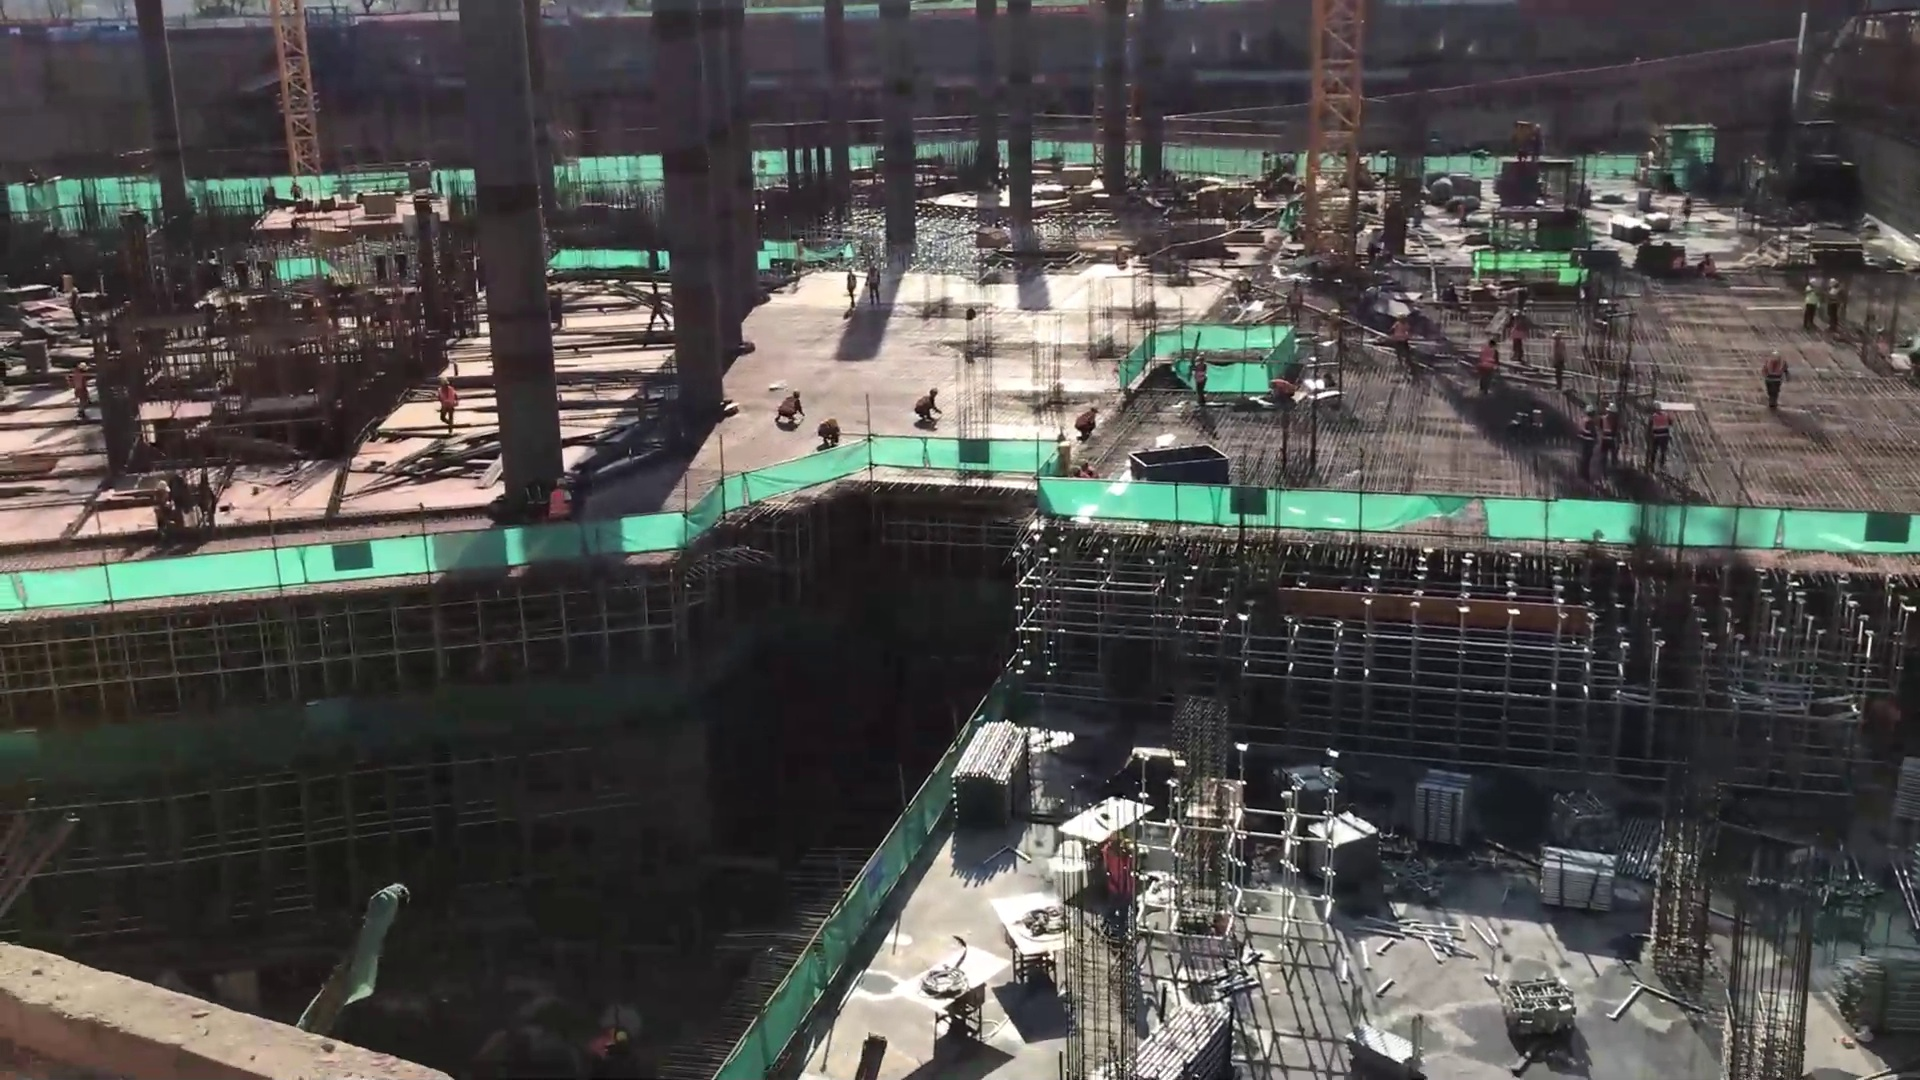person: (1101, 832, 1137, 925), (1760, 350, 1788, 414), (433, 374, 459, 438), (1825, 276, 1847, 339), (1390, 314, 1413, 373), (1549, 330, 1572, 390), (1578, 402, 1596, 478), (1651, 399, 1670, 465), (1605, 405, 1623, 468), (775, 391, 804, 430), (1479, 337, 1498, 396), (1284, 277, 1304, 330), (548, 474, 571, 520), (915, 387, 942, 424), (1505, 310, 1525, 360), (1192, 351, 1209, 407), (647, 281, 667, 329), (1802, 278, 1820, 331), (820, 418, 843, 453), (1270, 376, 1298, 400), (1076, 407, 1095, 442), (865, 260, 880, 302), (846, 265, 856, 307)
scaffold: (1094, 1003, 1227, 1080), (948, 719, 1025, 820), (1537, 846, 1616, 909), (1412, 770, 1467, 845)
